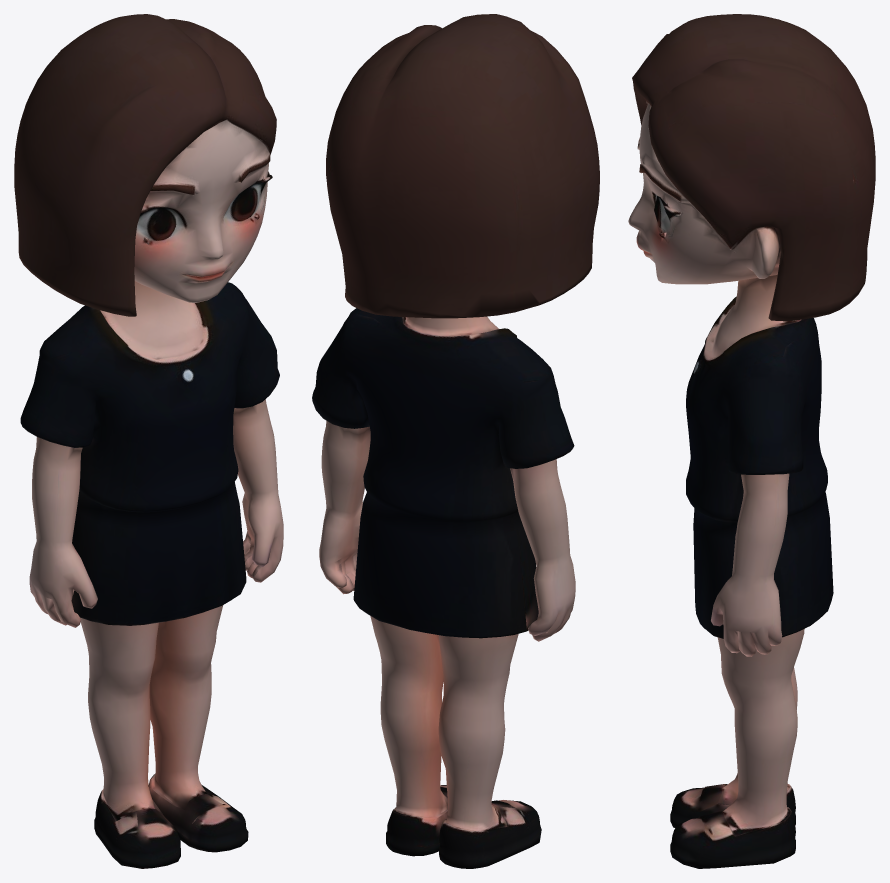
Rendered from doubao.glb.
3 renders of one model, left to right at view 1: azimuth 30°, elevation 25°; view 2: azimuth 150°, elevation 25°; view 3: azimuth 270°, elevation 25°, orthographic.
Visible parts, largest first — view 1: material; view 2: material; view 3: material.
Boxes of the visible parts, x1,y1,x2,y2 form: material: [14, 14, 283, 868]; material: [312, 14, 599, 868]; material: [628, 14, 875, 868].
Size of the model in its own units: 0.6132 by 1.9 by 0.5272.
1 material, 1 textured.
